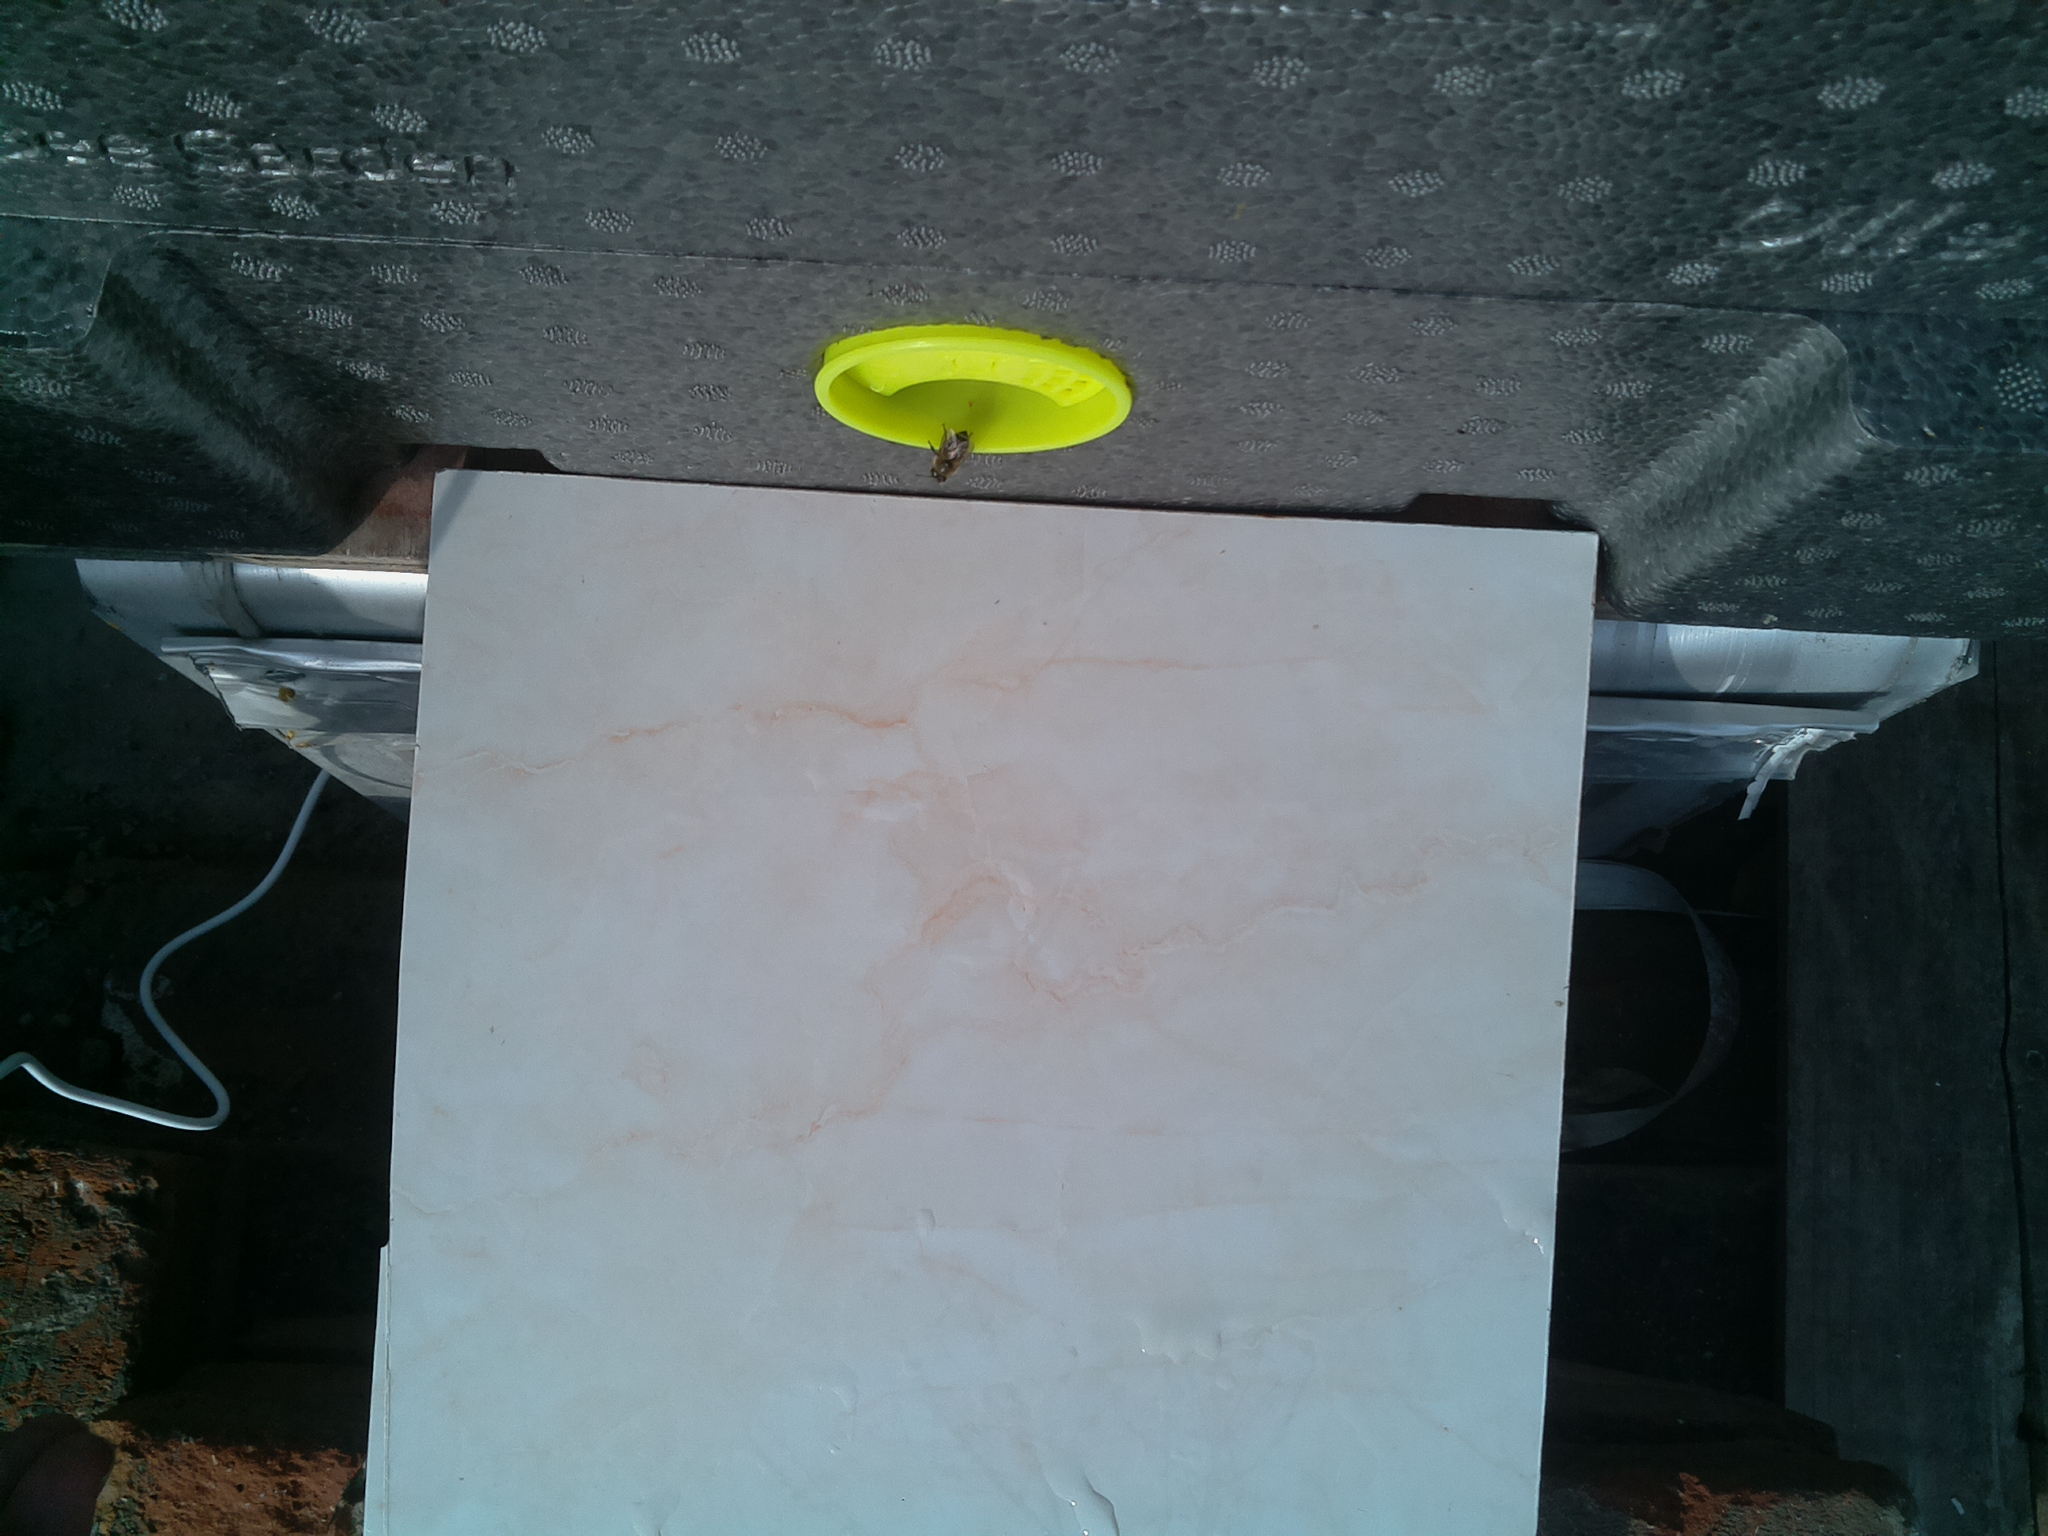bee: (923, 422, 976, 485)
